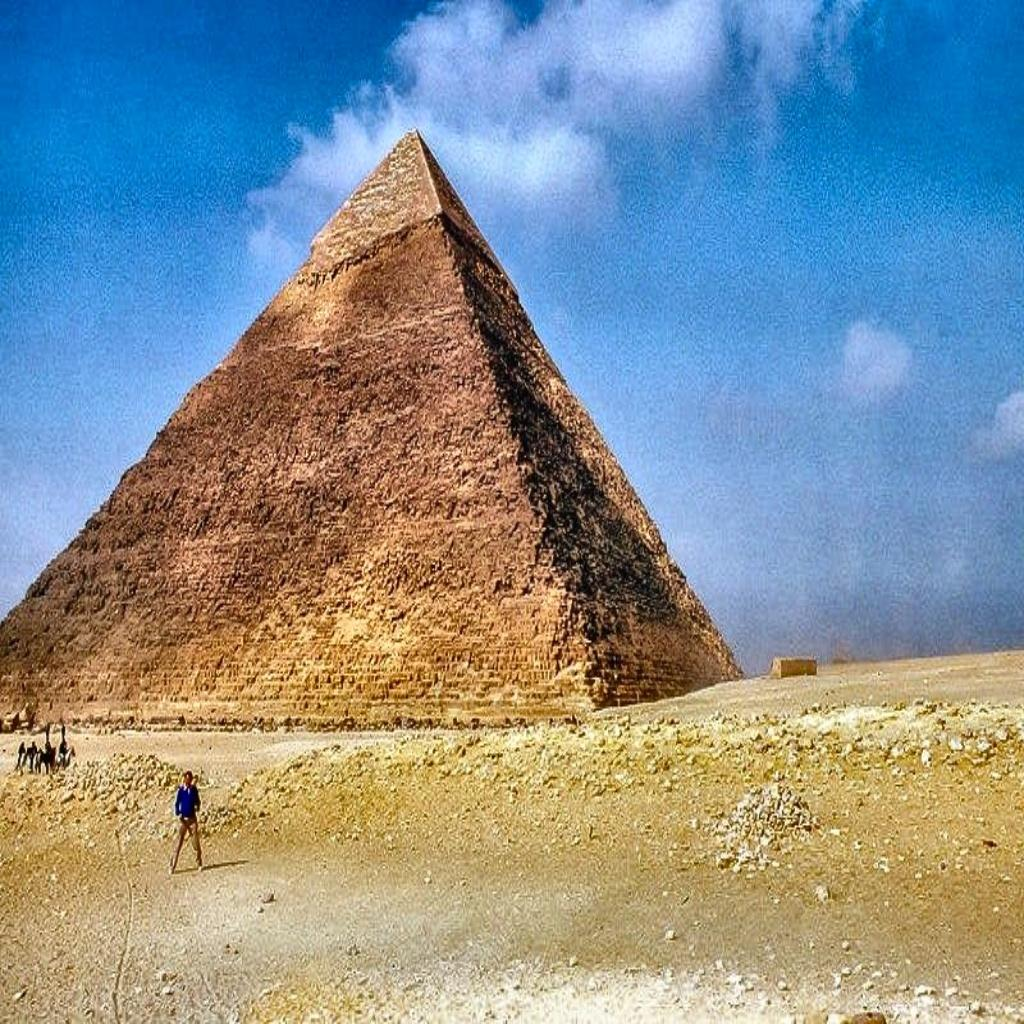Great Pyramids of Giza: (1, 124, 745, 722)
